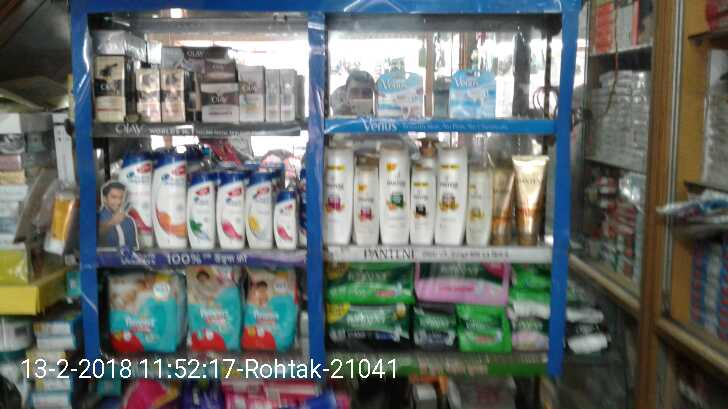venus: (377, 70, 426, 117), (450, 72, 497, 115), (434, 79, 450, 115)
